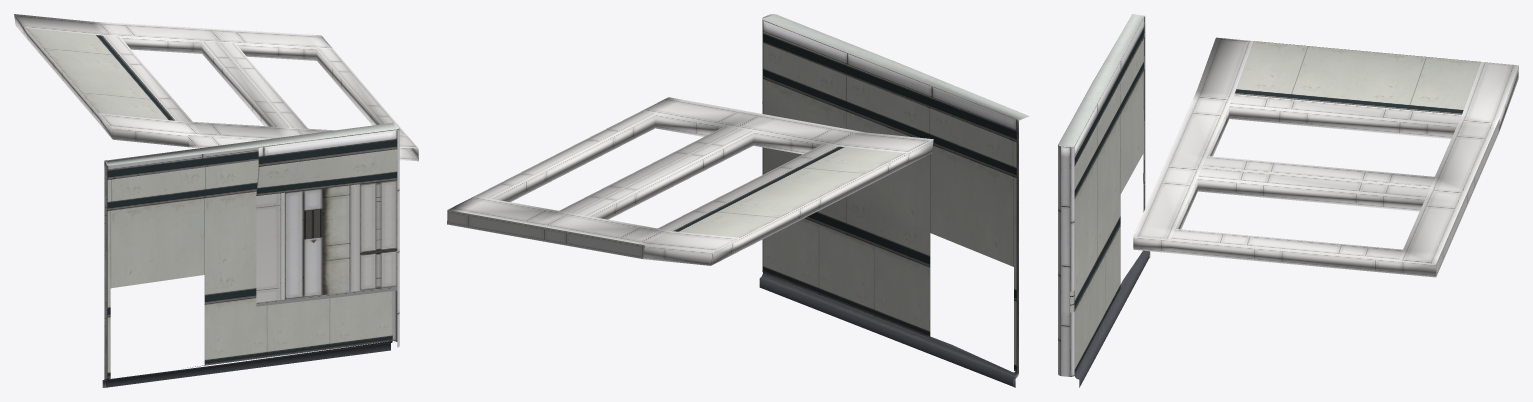
Rendered from STA20_ClubExtPartA.FBX.
3 views of the same model, side by side, from view 1: azimuth 30°, elevation 25°; view 2: azimuth 150°, elevation 25°; view 3: azimuth 270°, elevation 25° (orthographic). The views are drawn at different scales.
Visible parts, largest first — view 1: STA20_ClubExtPartA; view 2: STA20_ClubExtPartA; view 3: STA20_ClubExtPartA.
Part boxes in pixels (x1,y1,x2,y2): STA20_ClubExtPartA: (14, 14, 418, 387); STA20_ClubExtPartA: (447, 14, 1029, 387); STA20_ClubExtPartA: (1058, 14, 1518, 387).
Size of the model in its own units: 18.1 by 11.06 by 19.14.
